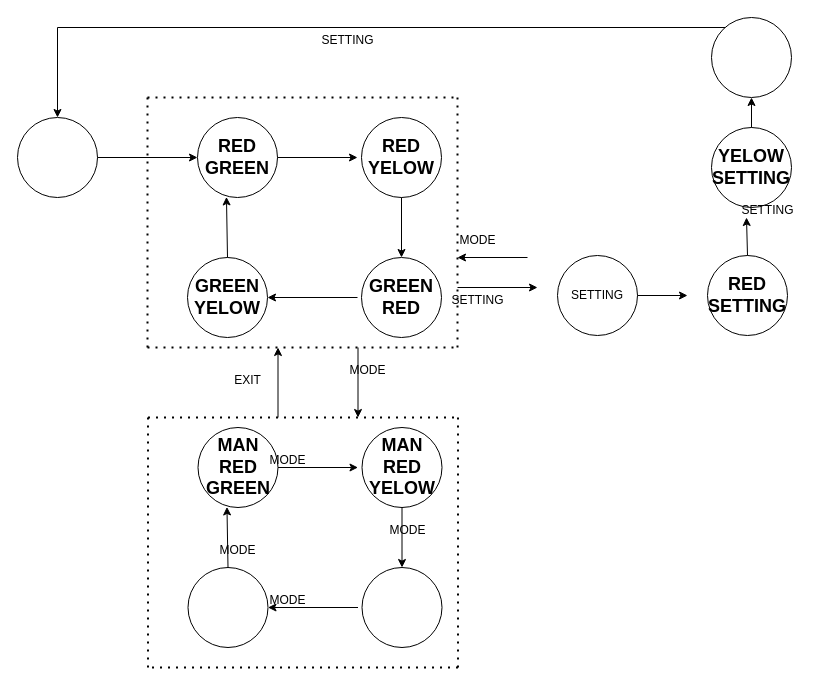
Image size: 825x687. Some labels were removed from this diagram. The shapes that lost their labels are listed below. From the top down, each one's centre as x and y in pixels, then its label:
At (x=751, y=57): "GREEN SETTING".
At (x=57, y=157): "INIT".
At (x=227, y=607): "MAN GREEN YELOW".
At (x=401, y=607): "MAN GREEN RED".
